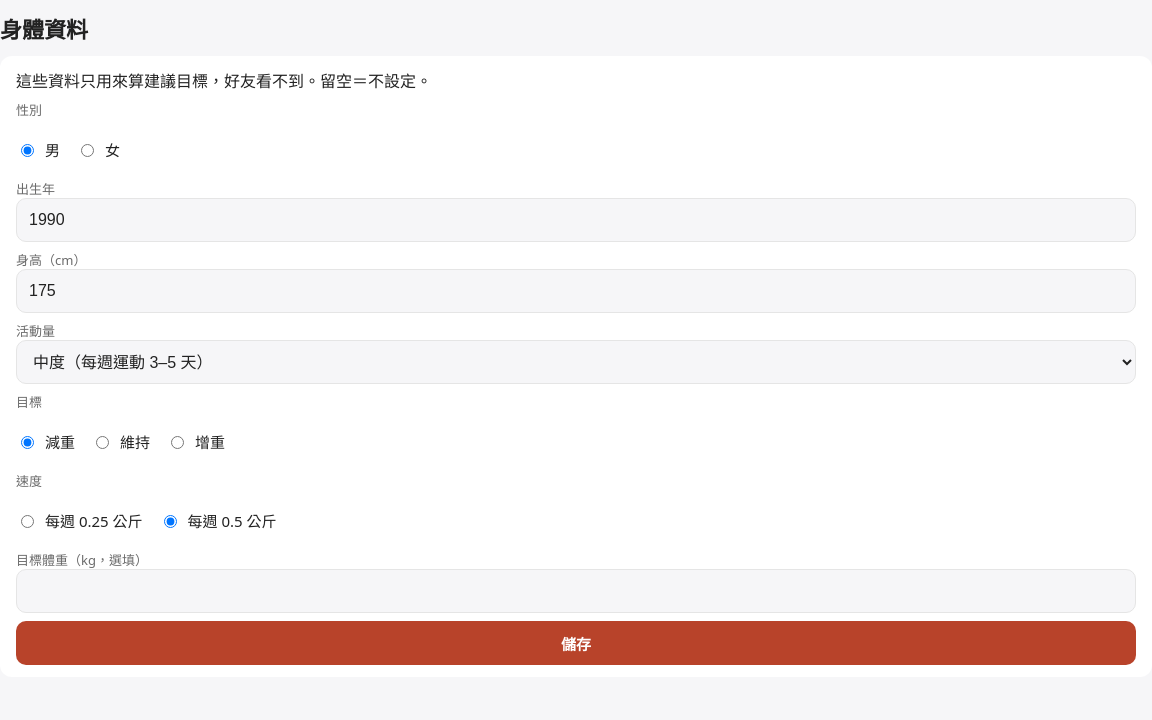
Test: /me/body › 後端的 422（出生年超出範圍）：顯示後端的訊息，留在這一頁
Click the button "儲存" at (576, 643), box [16, 621, 1136, 665]
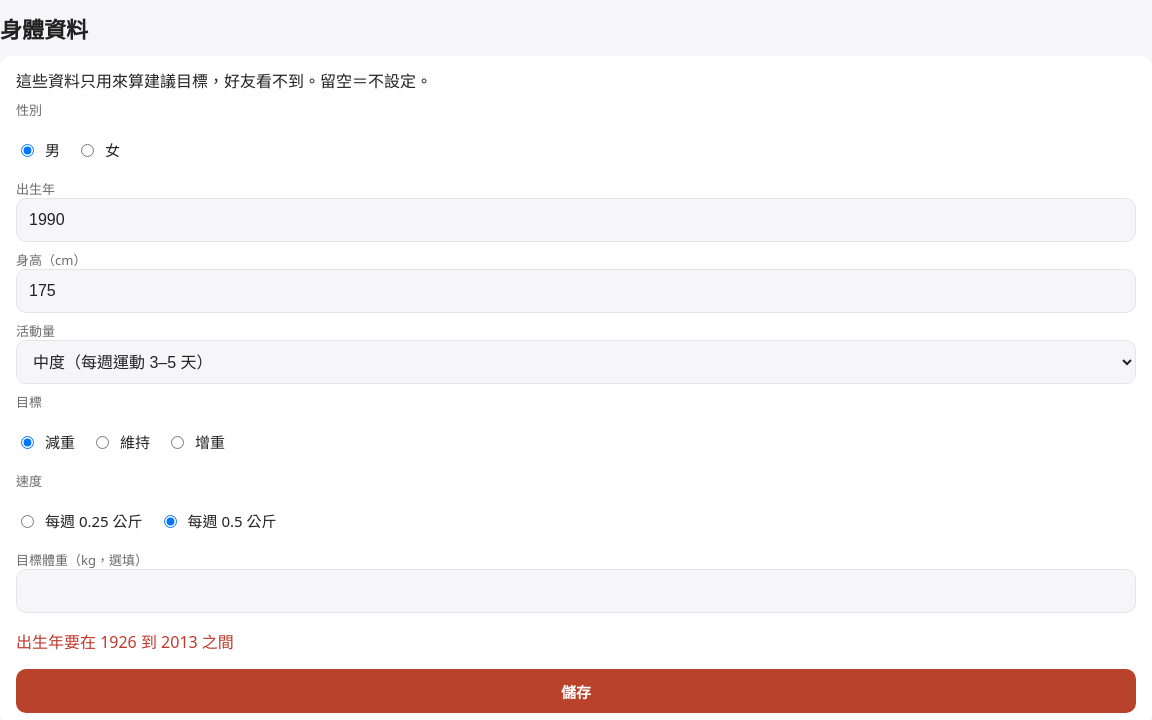
Expected: the field labelled "身高（cm）" is shown, [16, 269, 1136, 313]
Now the message reads "出生年要在 1926 到 2013 之間", box [16, 631, 234, 653]
